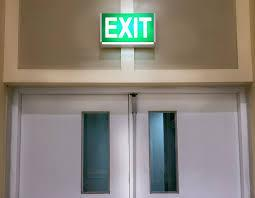exit: (8, 87, 251, 197)
lit_exit_sign: (100, 13, 155, 44)
